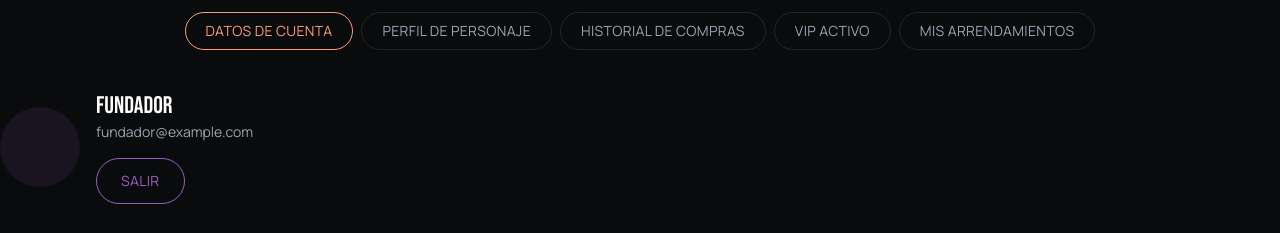
Test: AccountTabs › computes the active VIP tier from real purchase data when the tab is selected
Click the tab "VIP activo" at [832, 31], box [774, 12, 891, 50]
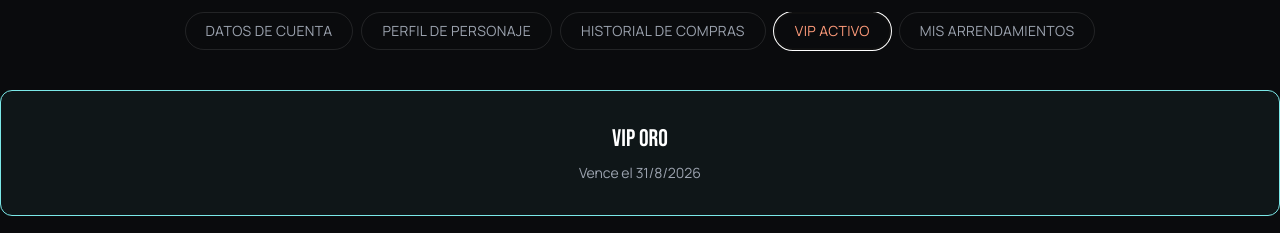
Expected: the text "VIP Oro" is shown, [612, 124, 668, 153]
